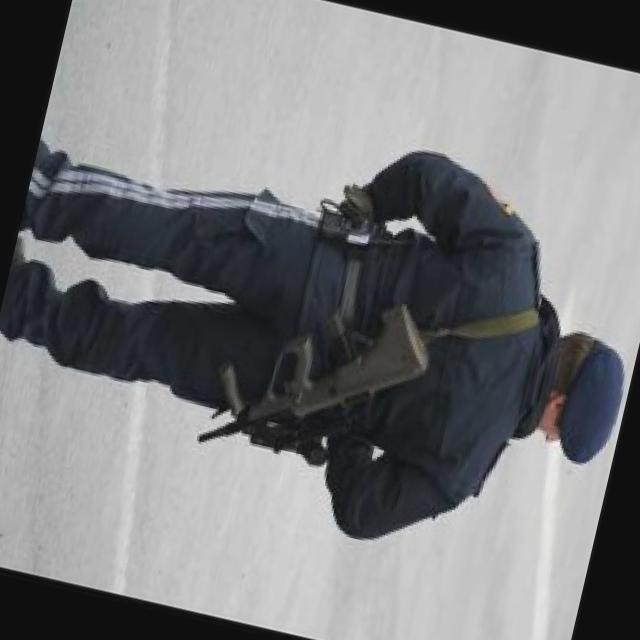long weapon: (185, 264, 438, 494)
